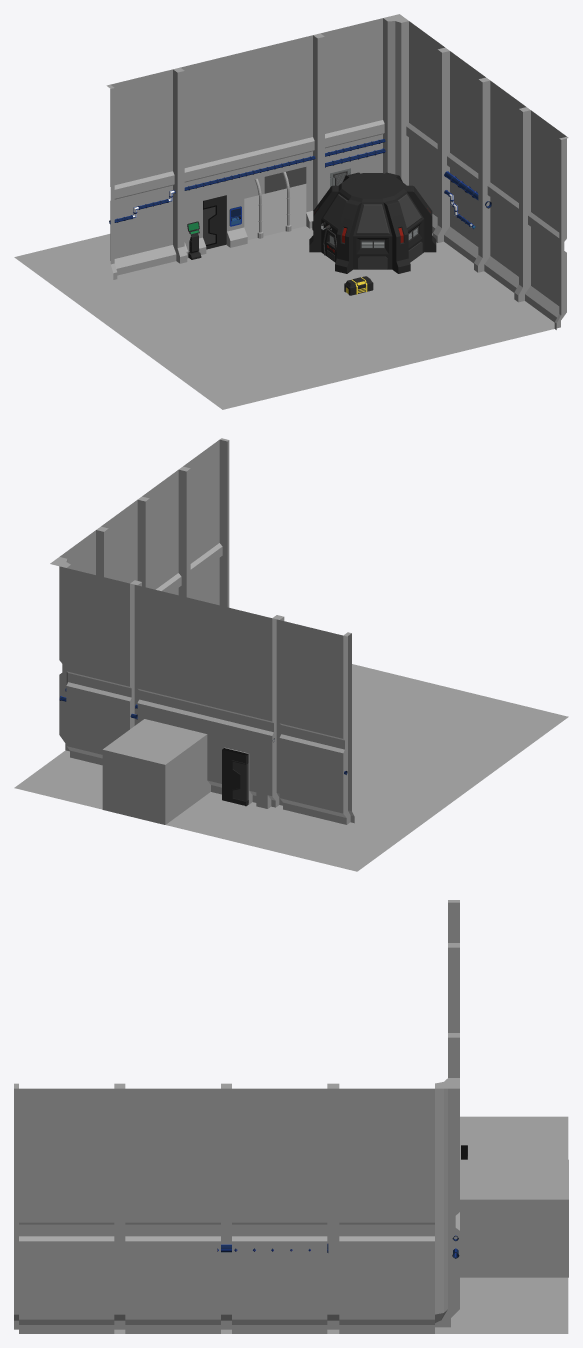
The model's file is Main Menu Scene 1.fbx.
The picture shows the model from 3 angles, top to bottom: view 1: azimuth 30°, elevation 25°; view 2: azimuth 150°, elevation 25°; view 3: azimuth 270°, elevation 25°; orthographic projection. The views are drawn at different scales.
Visible parts, largest first — view 1: Ground_Plane, Wall_2, Wall_3, Wall_1, Containment_Cell, Wall_6, Wall_5, Wall_4, Fence_Plance, Door_Object1; view 2: Ground_Plane, Wall_2, Wall_3, Wall_1, Wall_6, Wall_5, Wall_4, Door_Object1; view 3: Wall_3, Wall_6, Wall_5, Wall_4, Wall_2, Ground_Plane, Wall_1.
Part boxes in pixels (left/top/right/bottom): Ground_Plane: left=14, top=226, right=554, bottom=409; Wall_2: left=176, top=34, right=320, bottom=262; Wall_3: left=317, top=14, right=447, bottom=237; Wall_1: left=106, top=68, right=183, bottom=279; Containment_Cell: left=309, top=172, right=436, bottom=273; Wall_6: left=516, top=108, right=568, bottom=329; Wall_5: left=475, top=79, right=528, bottom=300; Wall_4: left=435, top=49, right=487, bottom=270; Fence_Plance: left=244, top=184, right=306, bottom=240; Door_Object1: left=203, top=195, right=226, bottom=249; Ground_Plane: left=14, top=664, right=568, bottom=871; Wall_2: left=102, top=581, right=282, bottom=824; Wall_3: left=50, top=528, right=138, bottom=765; Wall_1: left=276, top=616, right=354, bottom=824; Wall_6: left=181, top=438, right=229, bottom=607; Wall_5: left=140, top=468, right=188, bottom=597; Wall_4: left=99, top=498, right=147, bottom=587; Door_Object1: left=222, top=748, right=248, bottom=806; Wall_3: left=333, top=1035, right=459, bottom=1333; Wall_6: left=14, top=1083, right=120, bottom=1333; Wall_5: left=120, top=1083, right=226, bottom=1333; Wall_4: left=227, top=1083, right=333, bottom=1333; Wall_2: left=448, top=945, right=568, bottom=1277; Ground_Plane: left=114, top=1116, right=568, bottom=1333; Wall_1: left=448, top=900, right=459, bottom=944.
Size of the model in its own units: 2464 by 1293 by 2606.
